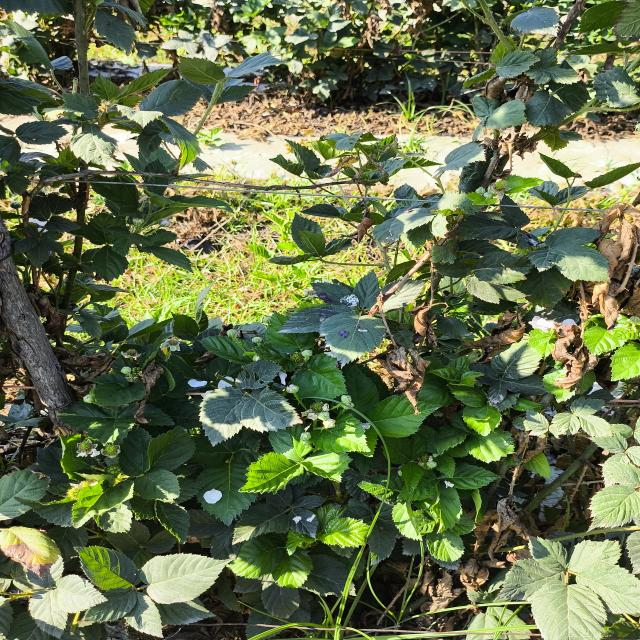boton: (82, 390, 97, 404), (340, 395, 354, 407), (286, 384, 299, 394), (300, 432, 310, 444), (318, 411, 329, 420), (227, 329, 237, 338), (121, 367, 132, 375), (301, 350, 312, 358), (252, 336, 262, 344)
